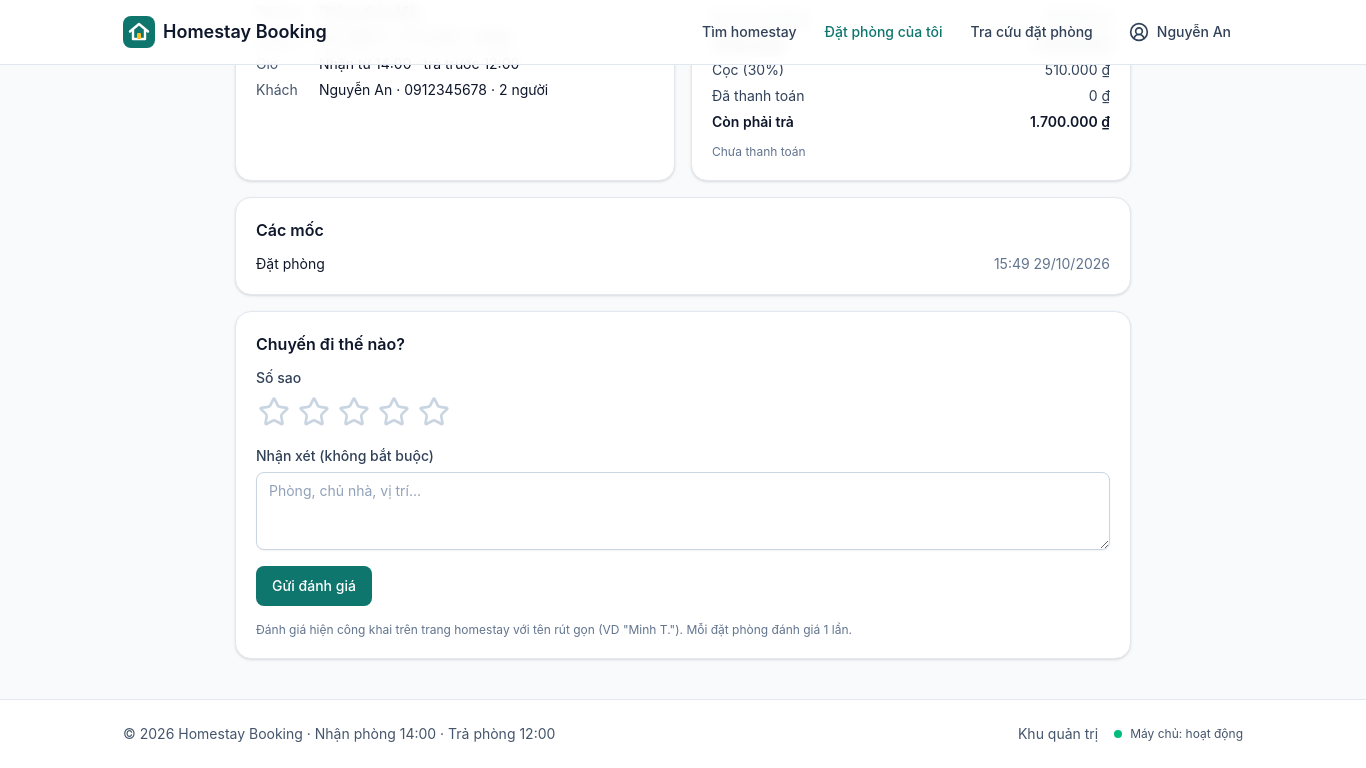
it: đánh giá › khách: sau trả phòng viết đánh giá (bắt buộc chọn sao) → hiện lại đánh giá của mình
(page scrolled)
Click the button "Gửi đánh giá".
click(314, 586)  # box [256,566,372,606]
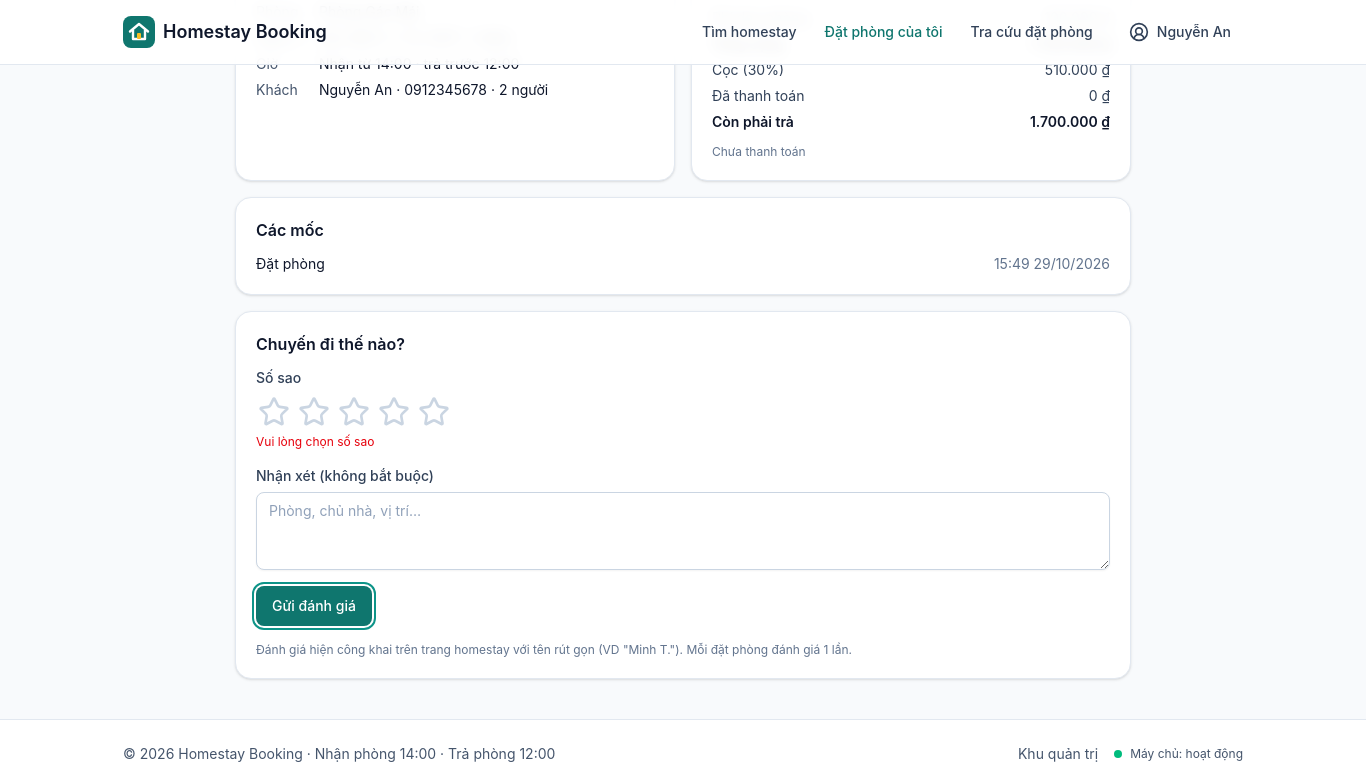
Expected: the text "Vui lòng chọn số sao" is shown, [256,434,374,449]
Click the radio button named "4 sao – Tốt".
click(394, 412)  # box [376,394,412,430]
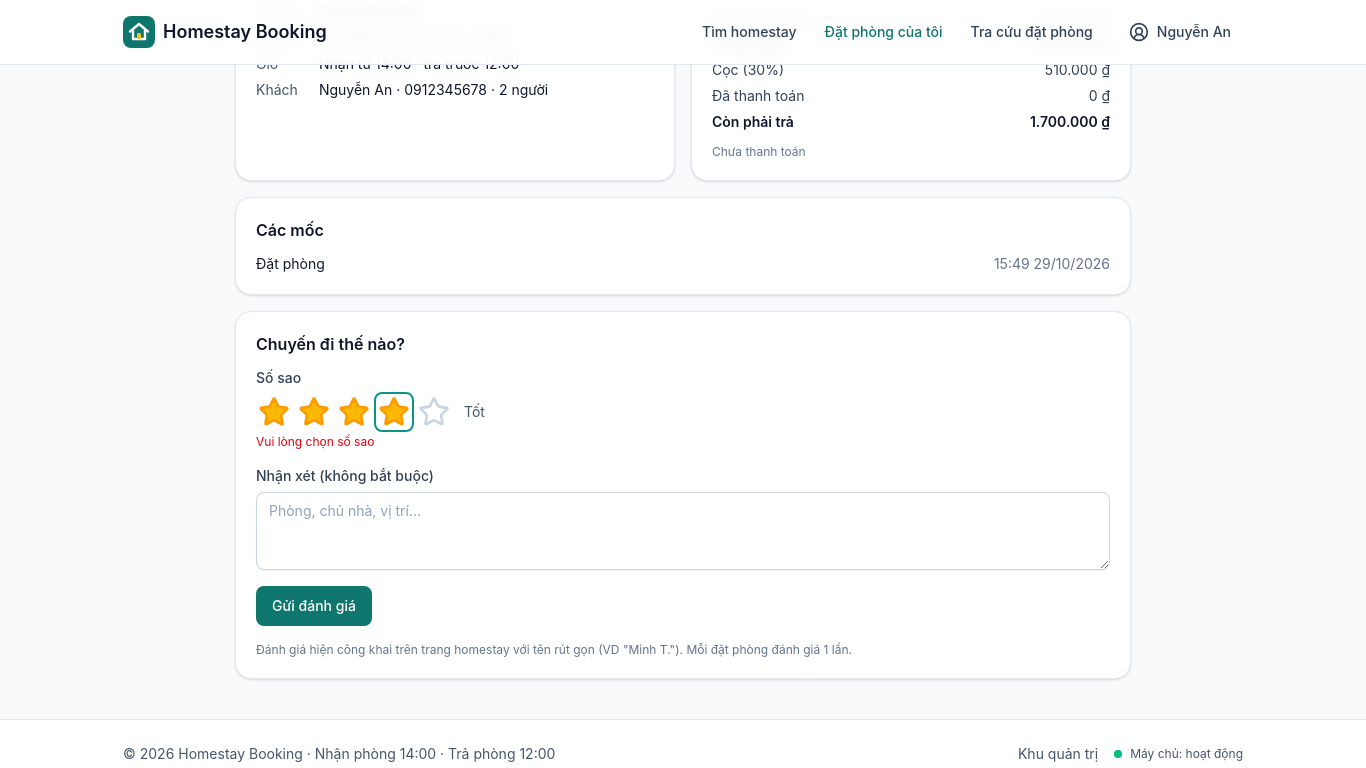
Type "Rất sạch" into the text box labelled "Nhận xét (không bắt buộc)".
click(683, 531); type("Rất sạch")  # box [256,492,1110,570]
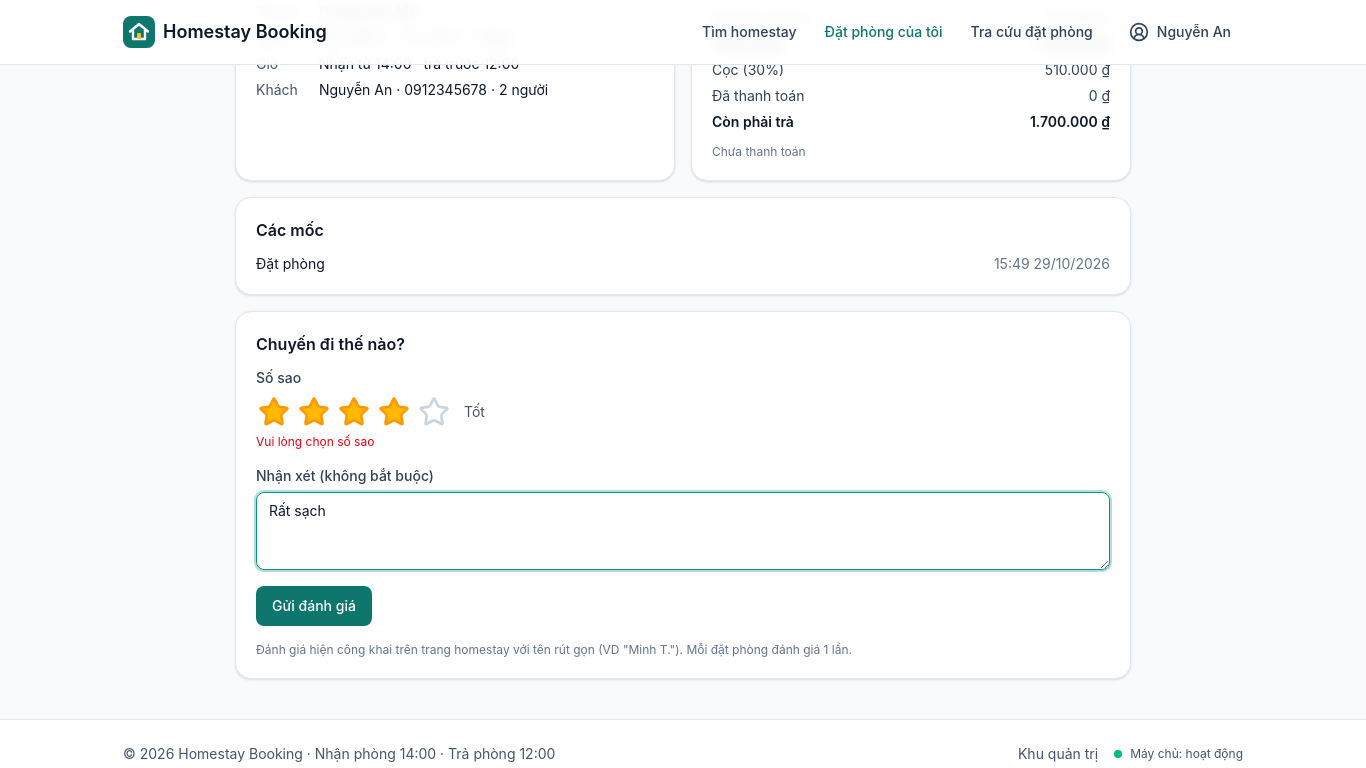
Click the button "Gửi đánh giá".
click(314, 606)  # box [256,586,372,626]
(page scrolled)
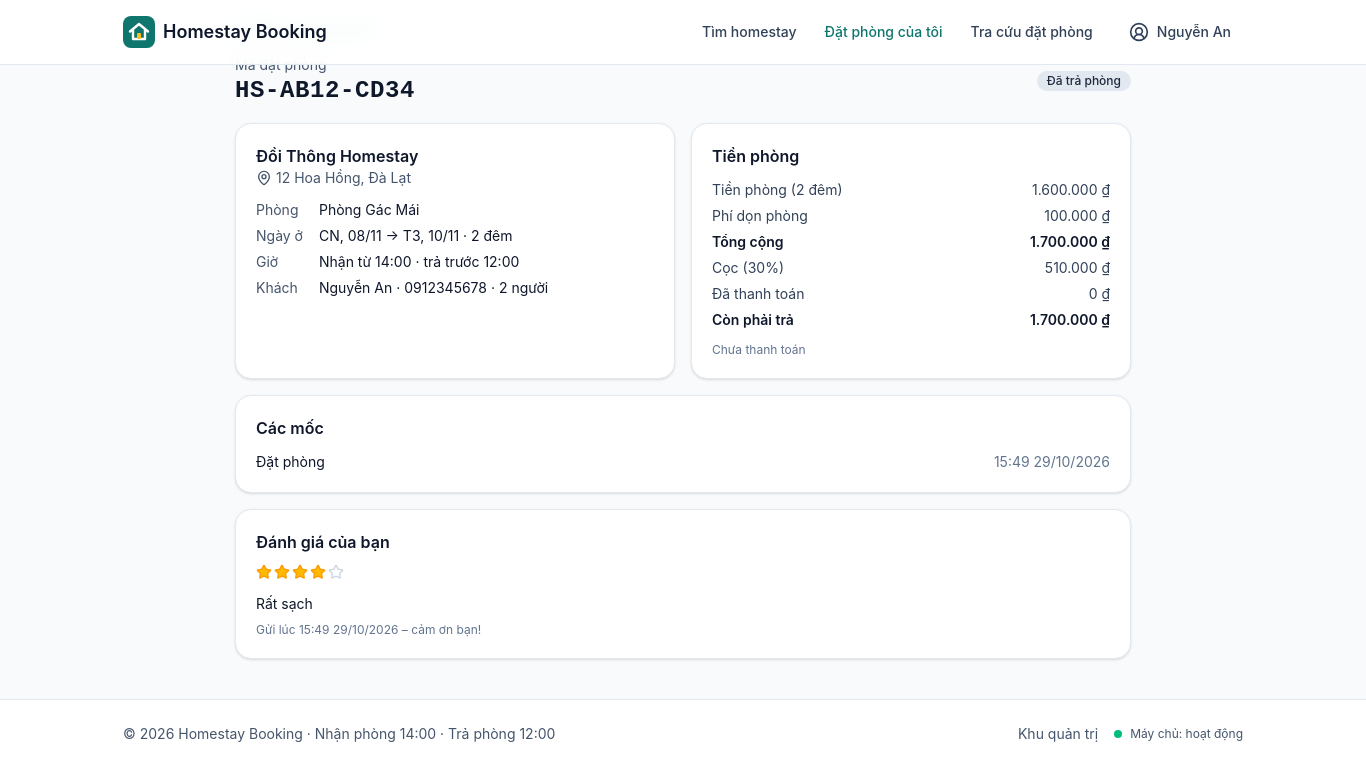
Expected: the heading "Đánh giá của bạn" is shown, [256,532,390,552]
Expected: the picture named "4/5 sao" is shown, [256,564,344,580]
